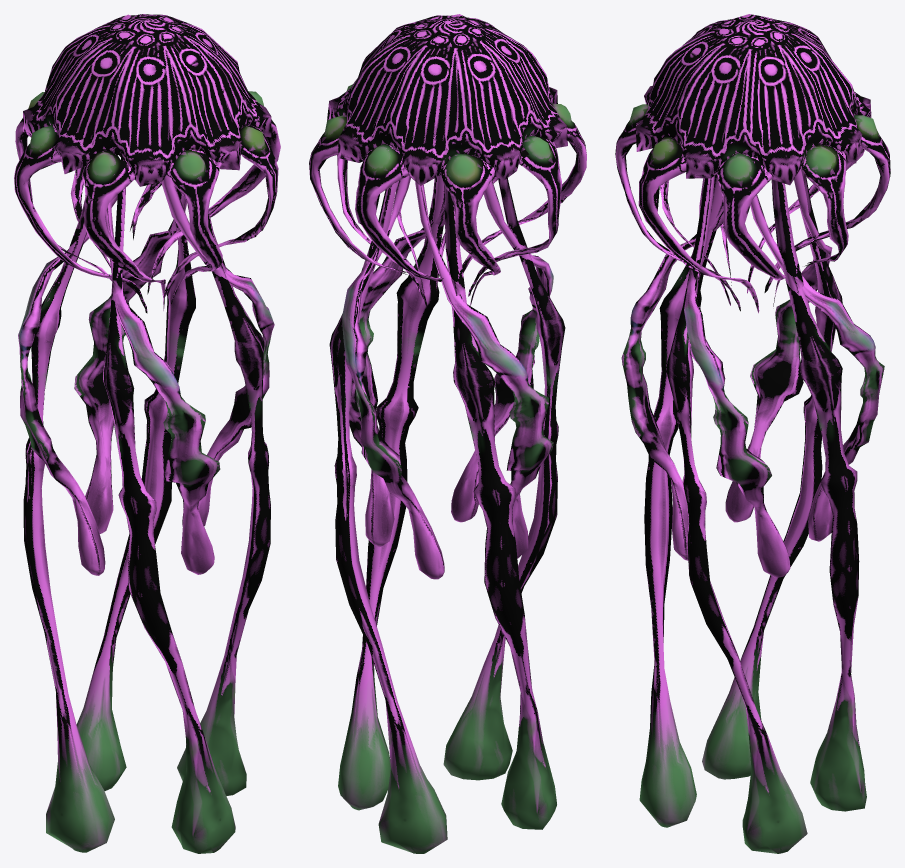
Rendered from meduselopoly.obj.
3 views of the same model, side by side, from view 1: azimuth 30°, elevation 25°; view 2: azimuth 150°, elevation 25°; view 3: azimuth 270°, elevation 25° (orthographic).
Parts seen in each view (by area): view 1: meduselopoly_headusOBJexport_polySurface1; view 2: meduselopoly_headusOBJexport_polySurface1; view 3: meduselopoly_headusOBJexport_polySurface1.
Part boxes in pixels (x1=…): meduselopoly_headusOBJexport_polySurface1: x1=14, y1=14, x2=280, y2=853; meduselopoly_headusOBJexport_polySurface1: x1=309, y1=14, x2=586, y2=853; meduselopoly_headusOBJexport_polySurface1: x1=615, y1=14, x2=890, y2=853.
Size of the model in its own units: 3.67 by 11.66 by 3.67.
Materials: 1 (1 with a texture image).
